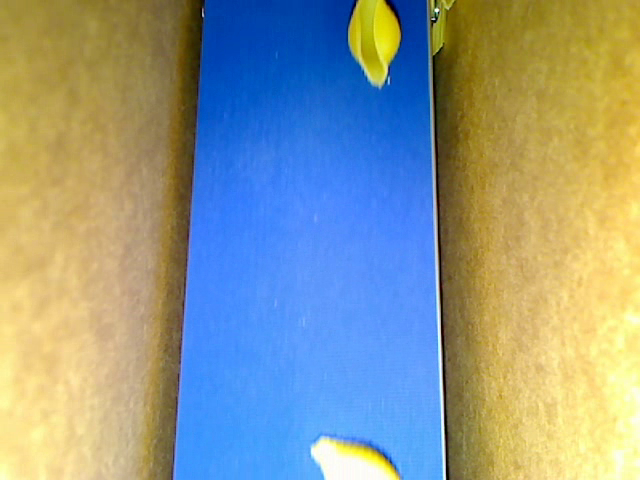penne: (428, 1, 448, 57), (440, 1, 458, 13)
shell: (344, 1, 401, 91), (306, 436, 402, 479)
